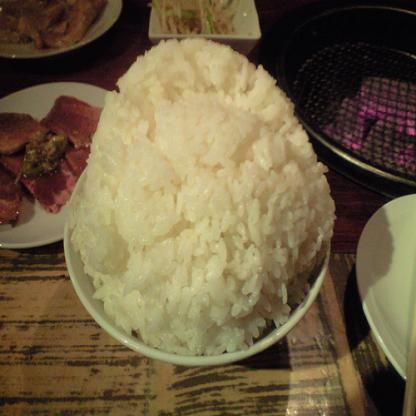rice ball: (86, 46, 314, 340)
